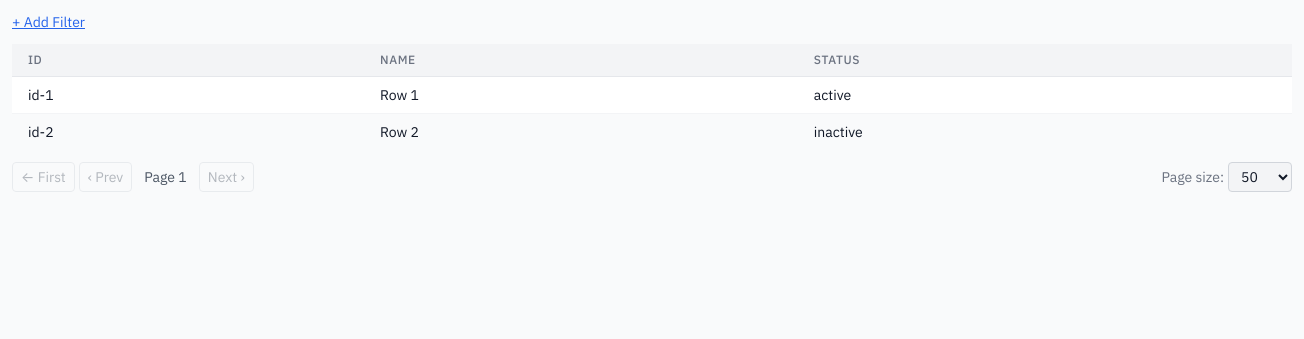
it: CsvPreviewPanel › loading / error / empty states › shows empty state with filter message when rows empty and filters active
The image size is (1304, 339).
Expected: the text "Row 1" is shown, top-left (364, 76), bottom-right (798, 114)
Click the button "+ Add Filter" at (48, 22), box top-left (12, 12), bottom-right (85, 32)
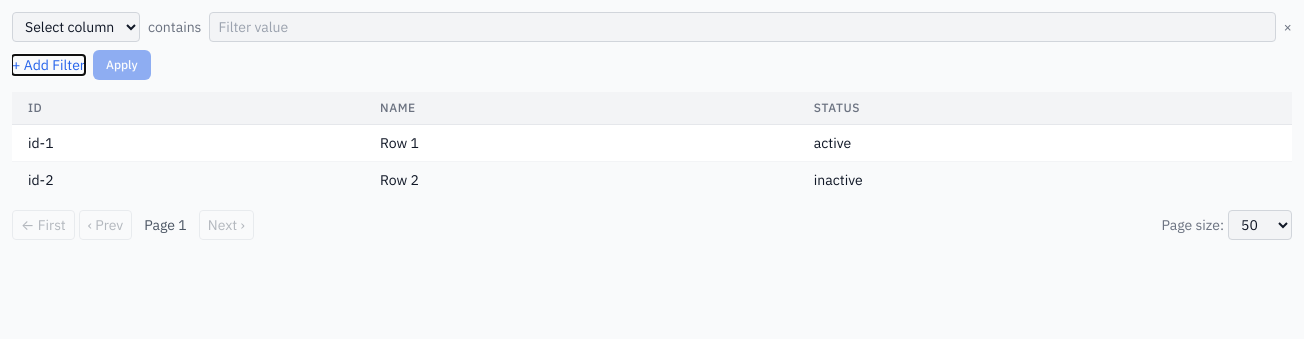
Select "Name" in the dropdown named "Filter column" at (76, 27), box top-left (12, 12), bottom-right (140, 42)
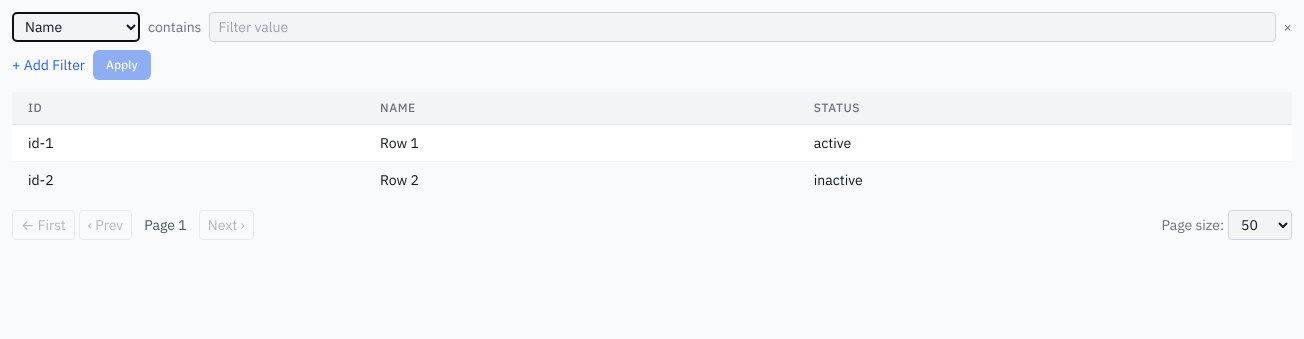
Type "zzz" into the field labelled "Filter value" at (742, 27), box top-left (209, 12), bottom-right (1276, 42)
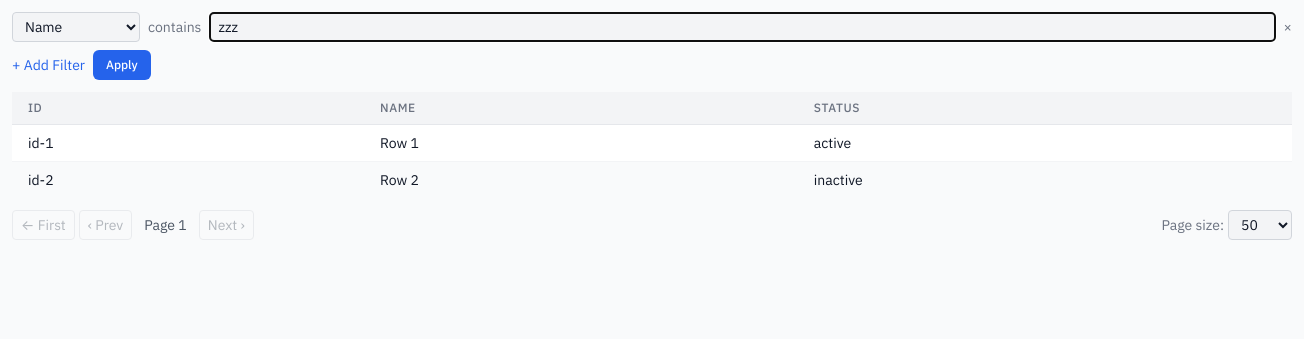
Click the button "Apply" at (122, 65), box top-left (93, 50), bottom-right (151, 80)
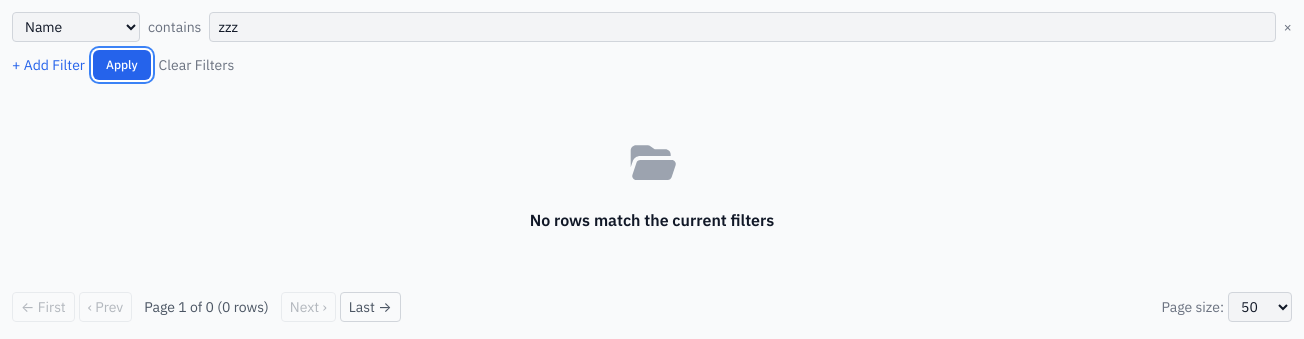
Now the heading "No rows match the current filters" is shown, box top-left (530, 208), bottom-right (774, 232)
